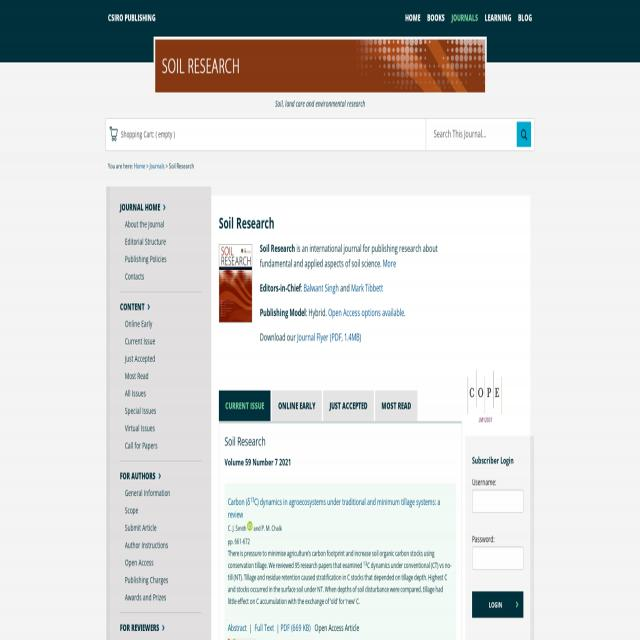button: (155, 39, 485, 92), (219, 244, 252, 323), (466, 366, 504, 427), (219, 391, 271, 421), (323, 391, 374, 421), (272, 391, 322, 421), (472, 592, 524, 618), (375, 391, 417, 421), (517, 122, 531, 147), (247, 521, 253, 531)
field: (431, 122, 517, 145), (472, 490, 524, 513), (472, 547, 524, 570)
